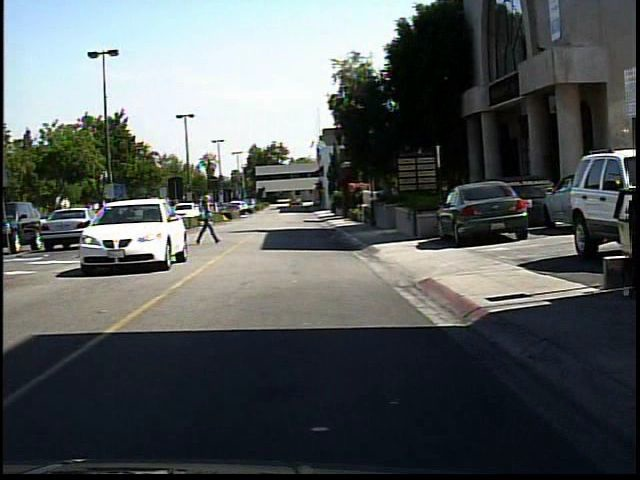person: (192, 190, 219, 249)
